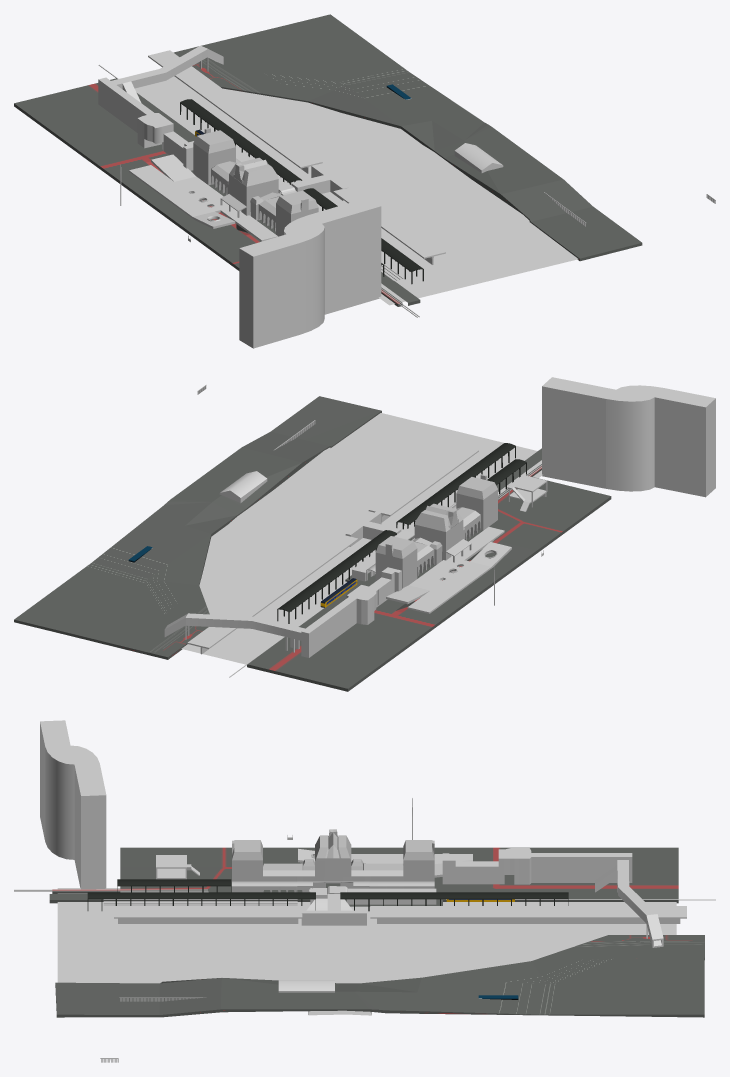
File: groningen station all.FBX
3 renders of one model, top to bottom at view 1: azimuth 30°, elevation 25°; view 2: azimuth 150°, elevation 25°; view 3: azimuth 270°, elevation 25°, orthographic. The views are drawn at different scales.
Visible parts, largest first — view 1: Plane002, ground2, Box022, Box015, Box002, Box016, Box037, Box012, Box036, Box013, Box020, Box061 (+3 smaller); view 2: Plane002, ground2, Box022, Box015, Box002, Box016, Box012, Box037, Box036, Box013, Box070, Box048 (+6 smaller); view 3: Plane002, ground2, Box015, Box022, Box002, Box037, Box012, Box036, Box013, Box019, Box020, Box068 (+8 smaller).
Boxes of the visible parts, box(x1,y1,x2,y2) form: Plane002: box(135, 76, 578, 305); ground2: box(173, 14, 642, 261); Box022: box(239, 198, 381, 348); Box015: box(14, 78, 420, 306); Box002: box(193, 127, 318, 236); Box016: box(129, 154, 277, 241); Box037: box(148, 50, 322, 173); Box012: box(98, 77, 193, 170); Box036: box(333, 186, 445, 264); Box013: box(111, 45, 223, 102); Box020: box(291, 164, 347, 200); Box061: box(454, 143, 503, 173); Plane002: box(181, 413, 542, 664); ground2: box(14, 396, 381, 659); Box022: box(542, 377, 715, 497); Box015: box(247, 448, 611, 691); Box002: box(366, 474, 497, 588); Box016: box(386, 527, 511, 613); Box012: box(301, 567, 401, 657); Box037: box(187, 533, 358, 654); Box036: box(368, 445, 478, 522); Box013: box(164, 613, 304, 652); Box070: box(277, 569, 342, 623); Box048: box(507, 475, 547, 511); Plane002: box(57, 888, 676, 983); ground2: box(55, 935, 704, 1017); Box015: box(49, 847, 678, 906); Box022: box(40, 720, 106, 889); Box002: box(232, 829, 434, 892); Box037: box(370, 906, 686, 923); Box012: box(442, 848, 632, 884); Box036: box(114, 906, 302, 923); Box013: box(595, 860, 663, 947); Box019: box(310, 886, 436, 904); Box020: box(301, 894, 366, 925); Box068: box(87, 892, 201, 910).
Size of the model in its own units: 8507 by 1664 by 10094.
